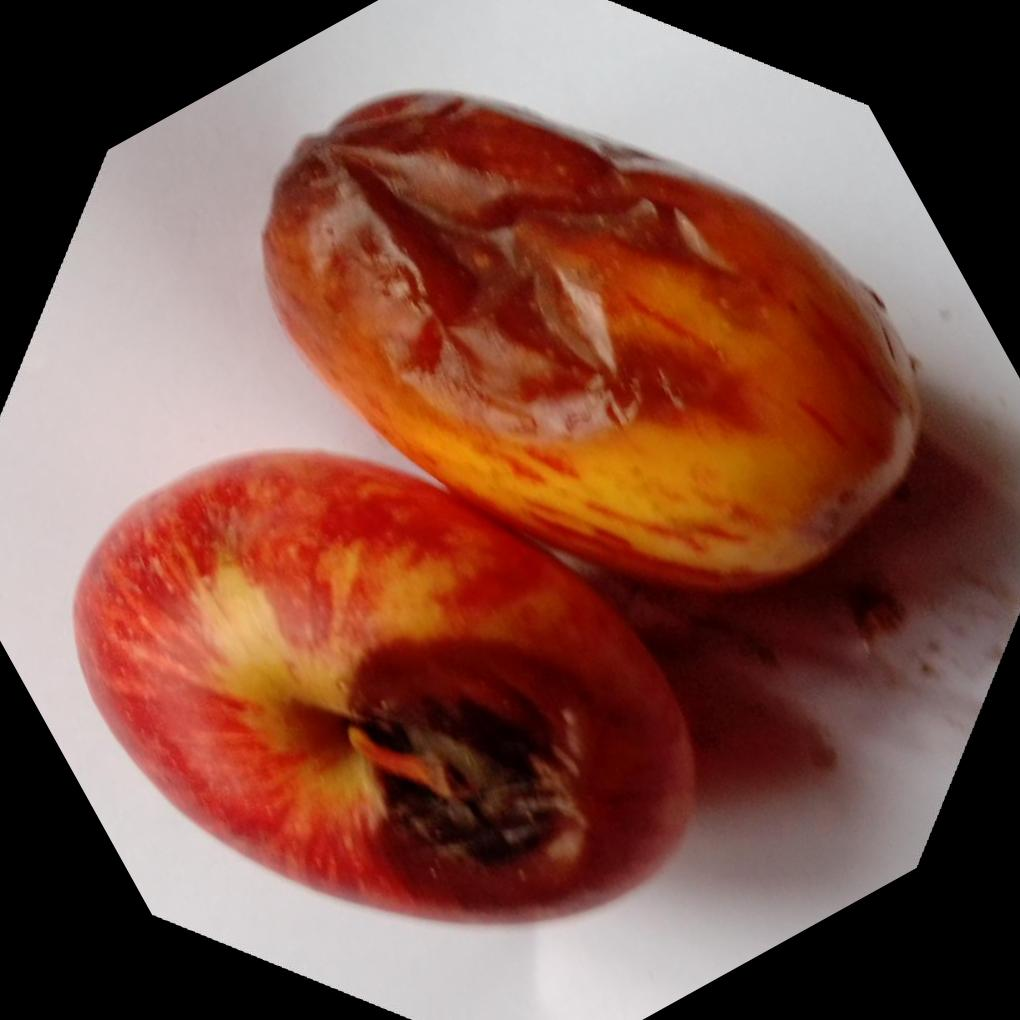FreshOrange: (68, 88, 921, 927)
